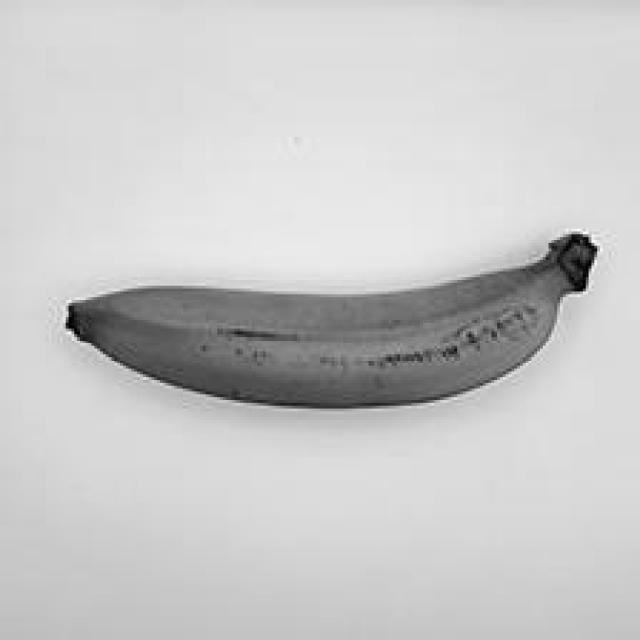Raw: (51, 200, 603, 429)
